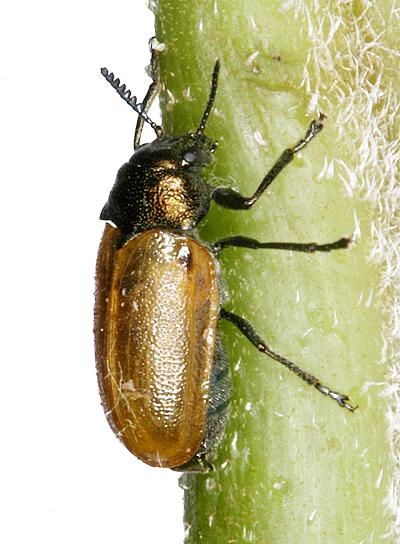Labidostomis_longimana: (83, 34, 369, 483)
